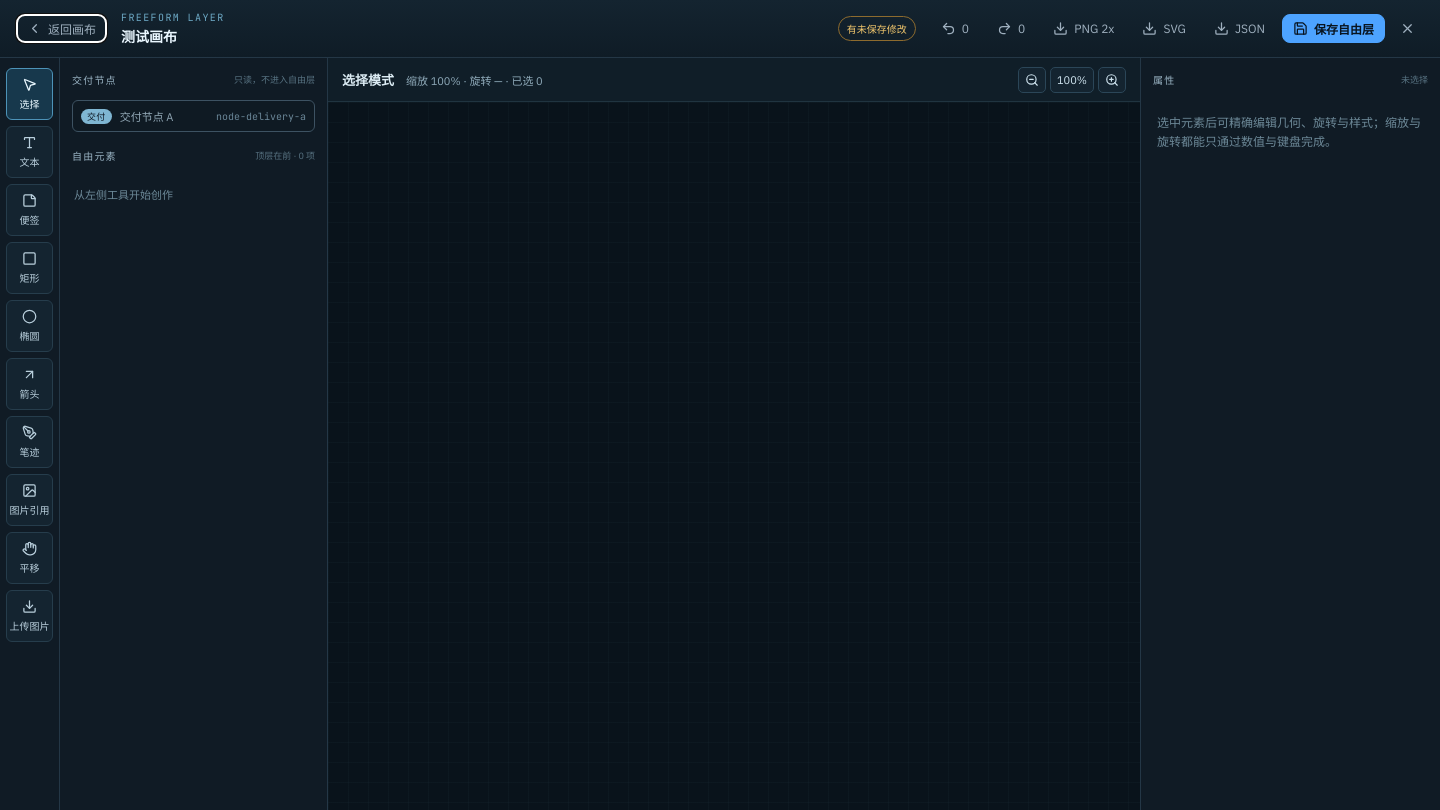
AC1 七类自由元素的创建路径（FT-01..FT-07） › 用 便签 工具拖拽即可创建一个自由元素
Click the button "便签". click: (30, 210)
box: top-left (6, 184), bottom-right (53, 236)
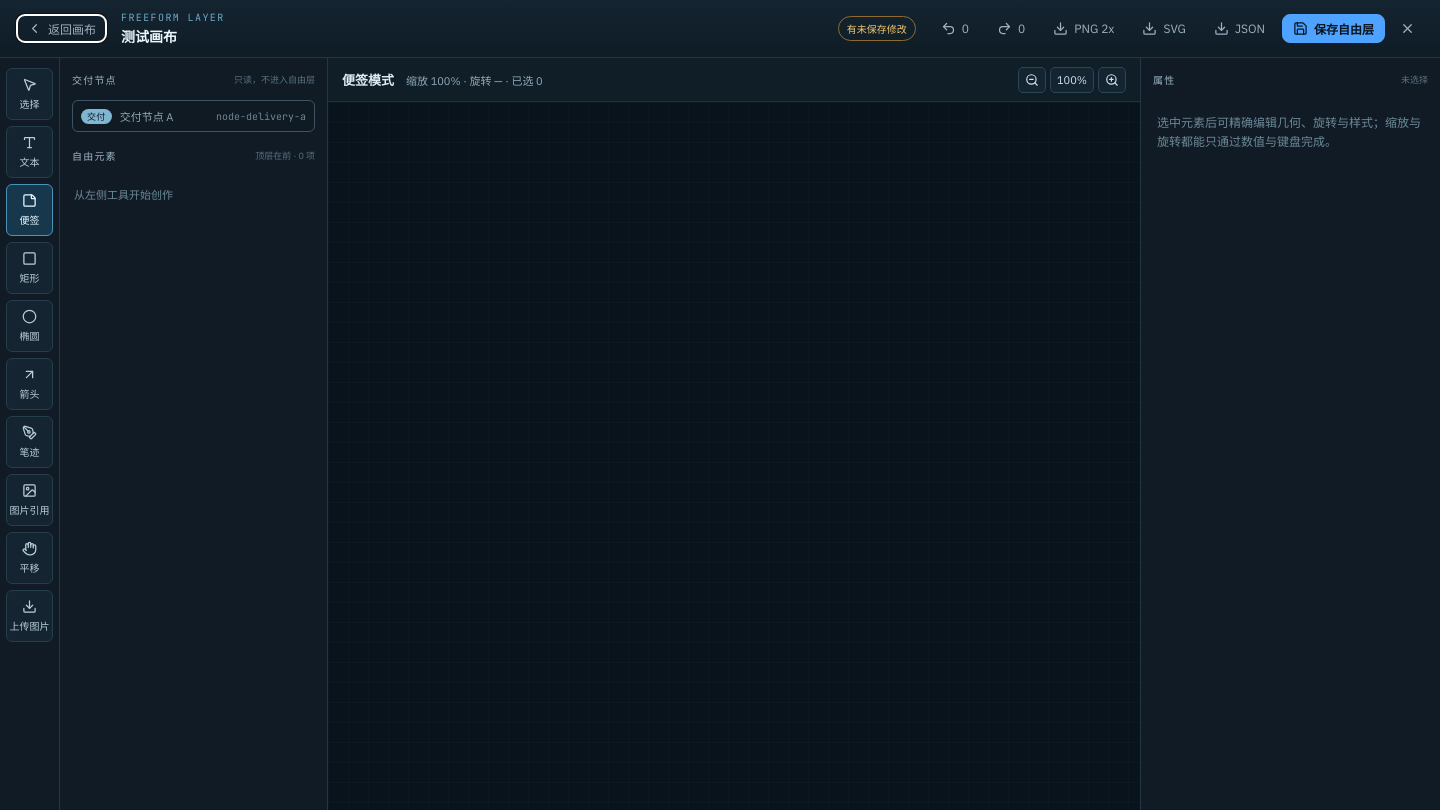
Press the mouse on the element with test id "freeform-viewport" at (734, 456), box top-left (328, 102), bottom-right (1140, 809)
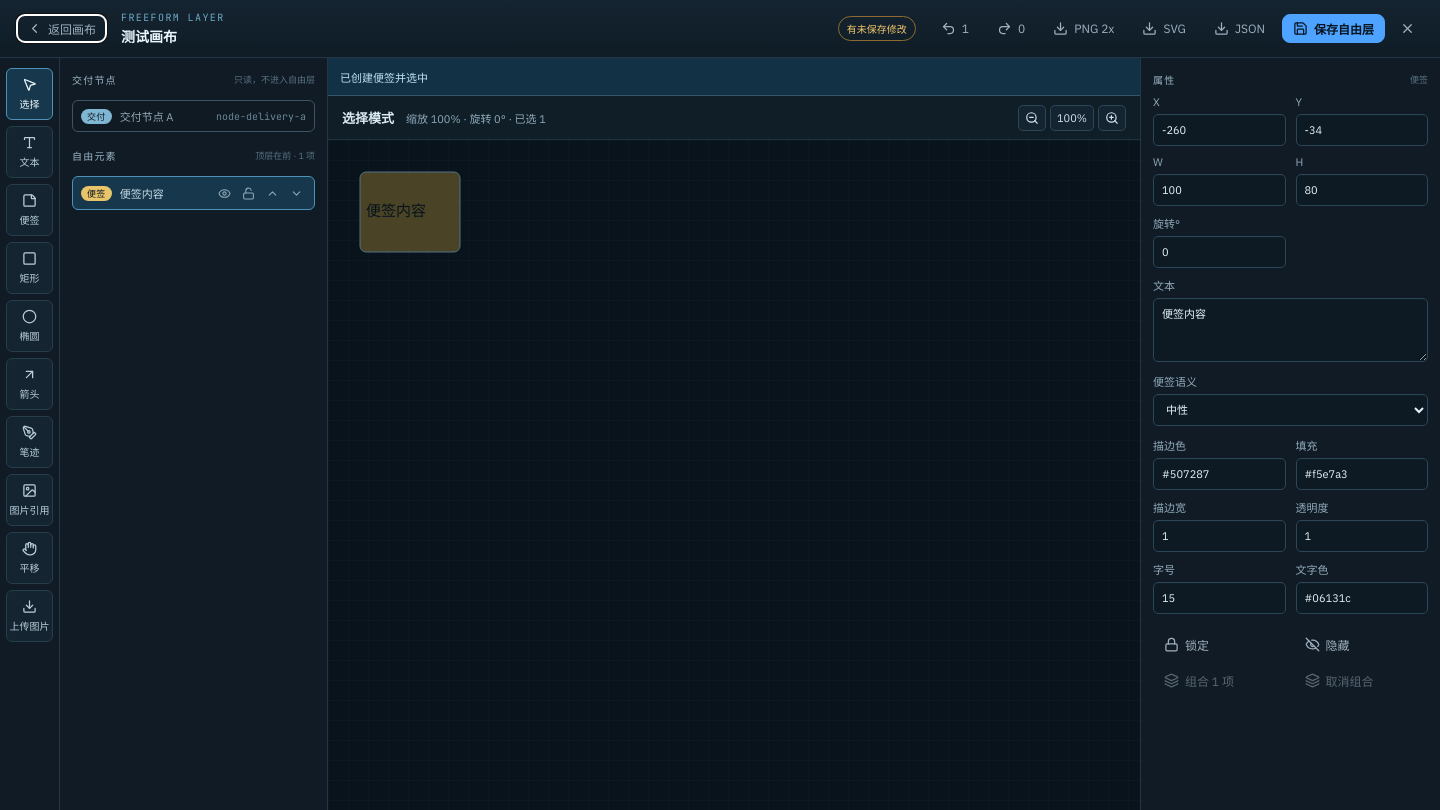
Result: the message with class "freeform-status-readout" shows "已选 1" at top-left (406, 112), bottom-right (546, 126)
